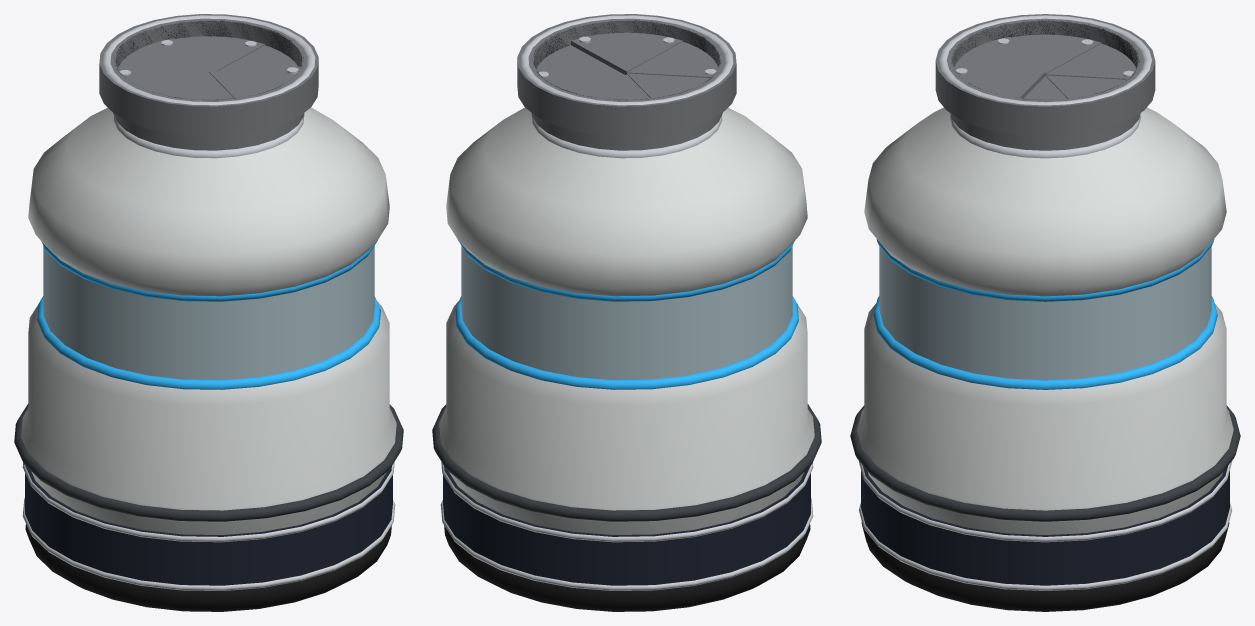
File: bottled_singularity.fbx
The picture shows the model from 3 angles, left to right: view 1: azimuth 30°, elevation 25°; view 2: azimuth 150°, elevation 25°; view 3: azimuth 270°, elevation 25°; orthographic projection.
Parts seen in each view (by area): view 1: Mesh_FlaskBody_Squat_Shell, Mesh_FlaskBody_Squat_Cowl, Mesh_FlaskBody_Squat_Window, Mesh_BottledSingularity_Band, Mesh_FlaskCollar_Iris_Ring, Mesh_FlaskBody_Squat_Bumper, Mesh_BottledSingularity_RimLight, Mesh_FlaskCollar_Iris_Leaf_2, Mesh_FlaskCollar_Iris_Leaf_3, Mesh_FlaskCollar_Iris_Leaf_6, Mesh_FlaskCollar_Iris_Leaf_4, Mesh_FlaskCollar_Iris_Leaf_1 (+1 smaller); view 2: Mesh_FlaskBody_Squat_Shell, Mesh_FlaskBody_Squat_Cowl, Mesh_FlaskBody_Squat_Window, Mesh_BottledSingularity_Band, Mesh_FlaskCollar_Iris_Ring, Mesh_FlaskBody_Squat_Bumper, Mesh_BottledSingularity_RimLight, Mesh_FlaskCollar_Iris_Leaf_6, Mesh_FlaskCollar_Iris_Leaf_5, Mesh_FlaskCollar_Iris_Leaf_1, Mesh_FlaskCollar_Iris_Leaf_4, Mesh_FlaskCollar_Iris_Leaf_2 (+1 smaller); view 3: Mesh_FlaskBody_Squat_Shell, Mesh_FlaskBody_Squat_Cowl, Mesh_FlaskBody_Squat_Window, Mesh_BottledSingularity_Band, Mesh_FlaskCollar_Iris_Ring, Mesh_FlaskBody_Squat_Bumper, Mesh_BottledSingularity_RimLight, Mesh_FlaskCollar_Iris_Leaf_3, Mesh_FlaskCollar_Iris_Leaf_4, Mesh_FlaskCollar_Iris_Leaf_5, Mesh_FlaskCollar_Iris_Leaf_6, Mesh_FlaskCollar_Iris_Leaf_2 (+1 smaller).
Boxes of the visible parts, bbox=[...] form: Mesh_FlaskBody_Squat_Shell: bbox=[14, 301, 403, 534]; Mesh_FlaskBody_Squat_Cowl: bbox=[28, 107, 389, 296]; Mesh_FlaskBody_Squat_Window: bbox=[43, 246, 374, 380]; Mesh_BottledSingularity_Band: bbox=[22, 462, 395, 591]; Mesh_FlaskCollar_Iris_Ring: bbox=[99, 14, 318, 150]; Mesh_FlaskBody_Squat_Bumper: bbox=[25, 524, 391, 611]; Mesh_BottledSingularity_RimLight: bbox=[37, 240, 380, 389]; Mesh_FlaskCollar_Iris_Leaf_2: bbox=[161, 36, 264, 72]; Mesh_FlaskCollar_Iris_Leaf_3: bbox=[118, 38, 207, 75]; Mesh_FlaskCollar_Iris_Leaf_6: bbox=[209, 66, 300, 98]; Mesh_FlaskCollar_Iris_Leaf_4: bbox=[118, 68, 206, 95]; Mesh_FlaskCollar_Iris_Leaf_1: bbox=[218, 41, 297, 70]; Mesh_FlaskBody_Squat_Shell: bbox=[432, 301, 821, 534]; Mesh_FlaskBody_Squat_Cowl: bbox=[446, 107, 807, 296]; Mesh_FlaskBody_Squat_Window: bbox=[461, 246, 792, 380]; Mesh_BottledSingularity_Band: bbox=[440, 462, 813, 591]; Mesh_FlaskCollar_Iris_Ring: bbox=[517, 14, 736, 150]; Mesh_FlaskBody_Squat_Bumper: bbox=[444, 524, 810, 611]; Mesh_BottledSingularity_RimLight: bbox=[455, 240, 798, 389]; Mesh_FlaskCollar_Iris_Leaf_6: bbox=[571, 32, 682, 74]; Mesh_FlaskCollar_Iris_Leaf_5: bbox=[627, 37, 717, 77]; Mesh_FlaskCollar_Iris_Leaf_1: bbox=[536, 45, 624, 77]; Mesh_FlaskCollar_Iris_Leaf_4: bbox=[627, 69, 716, 98]; Mesh_FlaskCollar_Iris_Leaf_2: bbox=[537, 70, 624, 95]; Mesh_FlaskBody_Squat_Shell: bbox=[850, 303, 1240, 534]; Mesh_FlaskBody_Squat_Cowl: bbox=[864, 107, 1226, 296]; Mesh_FlaskBody_Squat_Window: bbox=[879, 246, 1211, 380]; Mesh_BottledSingularity_Band: bbox=[858, 461, 1232, 591]; Mesh_FlaskCollar_Iris_Ring: bbox=[935, 14, 1155, 150]; Mesh_FlaskBody_Squat_Bumper: bbox=[861, 522, 1229, 611]; Mesh_BottledSingularity_RimLight: bbox=[873, 239, 1217, 389]; Mesh_FlaskCollar_Iris_Leaf_3: bbox=[1045, 39, 1136, 79]; Mesh_FlaskCollar_Iris_Leaf_4: bbox=[997, 34, 1101, 74]; Mesh_FlaskCollar_Iris_Leaf_5: bbox=[955, 37, 1043, 74]; Mesh_FlaskCollar_Iris_Leaf_6: bbox=[954, 66, 1045, 98]; Mesh_FlaskCollar_Iris_Leaf_2: bbox=[1045, 70, 1133, 98].
Bounding box in the file's own units: 14.22 × 19.46 × 14.22.
